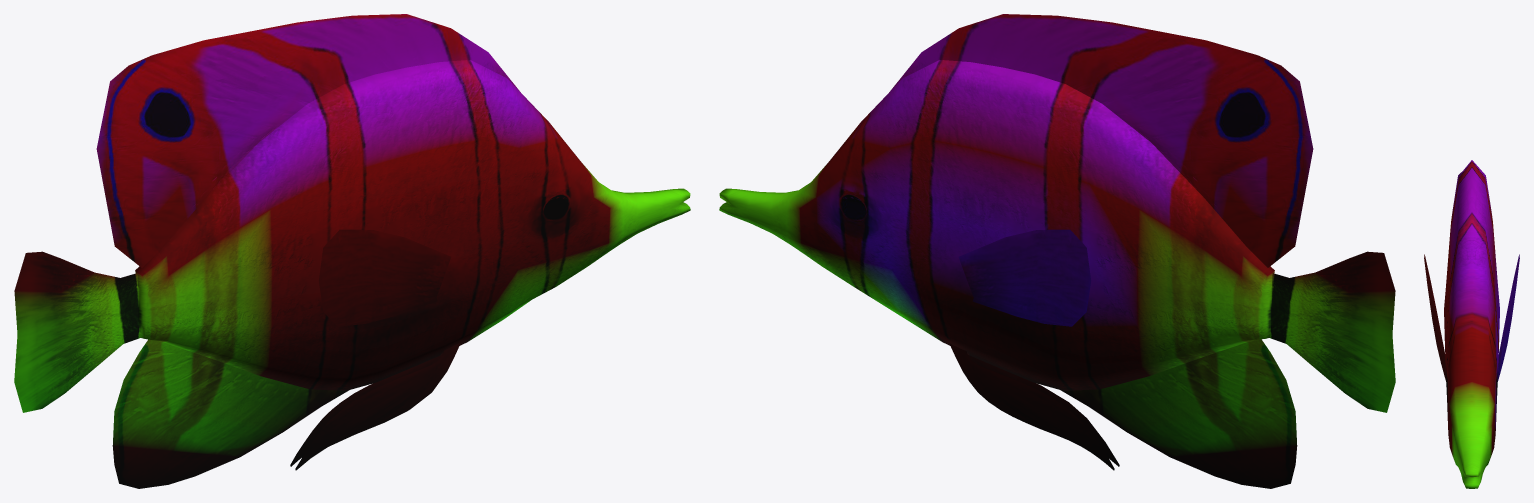
File: copperband_butterflyfish.glb
3 renders of one model, left to right at view 1: azimuth 30°, elevation 25°; view 2: azimuth 150°, elevation 25°; view 3: azimuth 270°, elevation 25°, orthographic. The views are drawn at different scales.
Parts seen in each view (by area): view 1: CopperbandButterflyfish; view 2: CopperbandButterflyfish; view 3: CopperbandButterflyfish.
Boxes of the visible parts, x1,y1,x2,y2 form: CopperbandButterflyfish: (14, 14, 690, 488); CopperbandButterflyfish: (719, 14, 1395, 488); CopperbandButterflyfish: (1424, 160, 1519, 488).
Size of the model in its own units: 1 by 0.6389 by 0.1431.
1 material, 1 textured.
